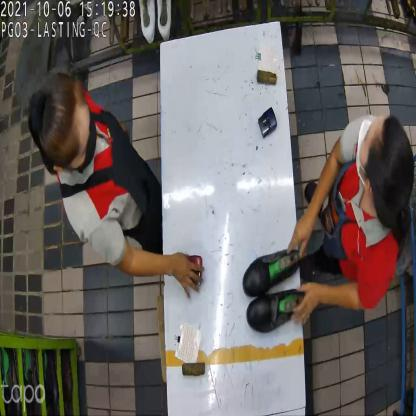shoes: (243, 240, 304, 335)
stamp: (258, 105, 277, 139), (183, 251, 202, 285)
